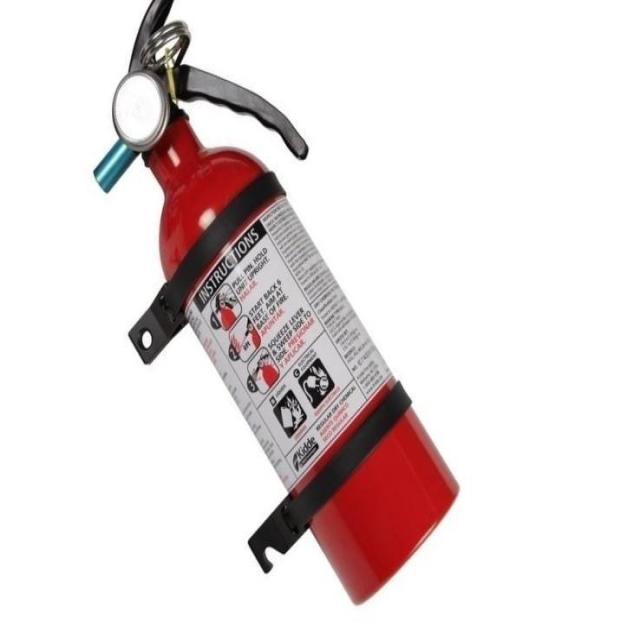fire_extinguisher: (86, 0, 470, 611)
